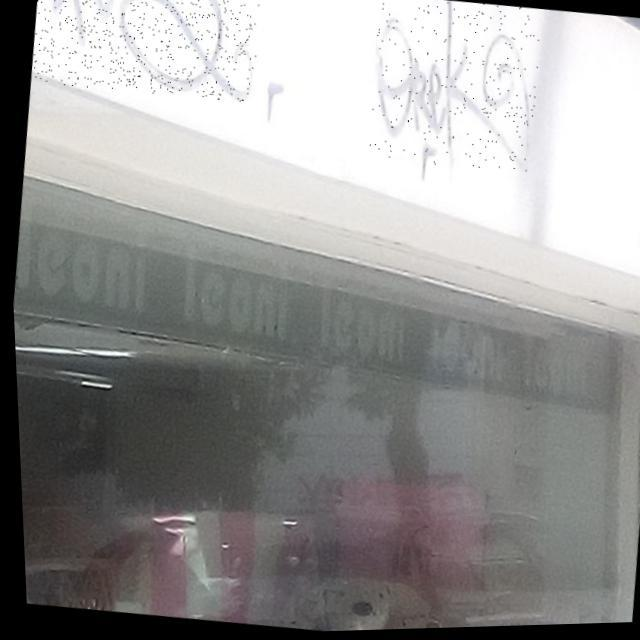-: (360, 0, 547, 180), (26, 0, 265, 108)
